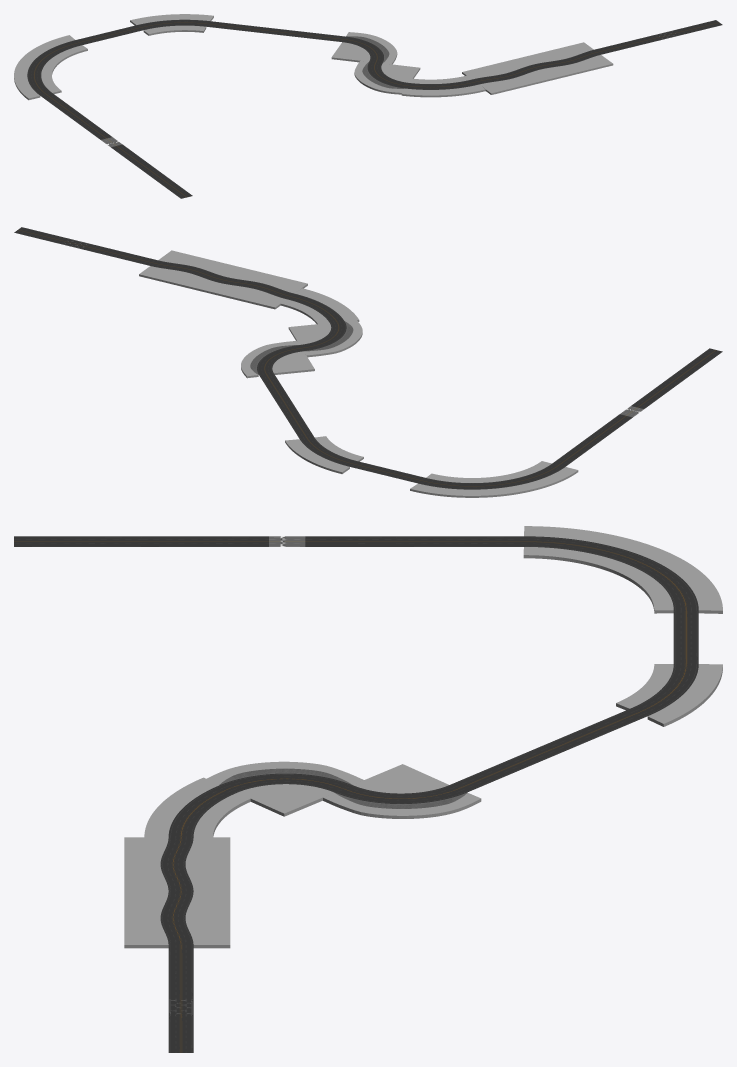
File: level_2.fbx
3 views of the same model, one above another, from view 1: azimuth 30°, elevation 25°; view 2: azimuth 150°, elevation 25°; view 3: azimuth 270°, elevation 25° (orthographic). The views are drawn at different scales.
Parts seen in each view (by area): view 1: bigwave_backsideR3, bigwave_backsideR2, bigwaveRoad2, road_turn_roadsideR1, road_turn1_4, road_turn1_3, road_turn1_2_backsideR1, road_turn_roadsideR, road_turn1_2_backsideR2, road_turn_roadsideR3, road_turn_roadsideR2, road_turn1_2_backsideL1 (+17 smaller); view 2: bigwave_backsideR2, bigwave_backsideR3, bigwaveRoad2, road_turn_roadsideR2, road_turn1_3, road_turn_roadsideR, road_turn1_4, road_turn_roadsideR3, road_turn1_2_backsideR1, road_turn1_2_backsideR2, road_turn_roadsideR1, road_turn1_2_backsideL1 (+15 smaller); view 3: bigwave_backsideR2, bigwave_backsideR3, bigwaveRoad2, road_turn1_3, road_turn1_4, road_turn1_2_backsideR2, road_turn_roadsideR3, road_turn1_2_backsideL2, road_turn1_2_backsideR1, road_turn_roadsideR2, road_turn_roadsideR, road_turn_roadsideR1 (+18 smaller).
Boxes of the visible parts, box(x1,y1,x2,y2) form: bigwave_backsideR3: box(479, 55, 613, 94); bigwave_backsideR2: box(462, 42, 593, 79); bigwaveRoad2: box(472, 50, 600, 84); road_turn_roadsideR1: box(401, 84, 485, 97); road_turn1_4: box(342, 36, 389, 63); road_turn1_3: box(362, 62, 408, 88); road_turn1_2_backsideR1: box(331, 42, 370, 62); road_turn_roadsideR: box(14, 63, 40, 100); road_turn1_2_backsideR2: box(381, 63, 420, 82); road_turn_roadsideR3: box(130, 14, 213, 25); road_turn_roadsideR2: box(18, 35, 74, 64); road_turn1_2_backsideL1: box(354, 61, 405, 94); bigwave_backsideR2: box(139, 266, 286, 309); bigwave_backsideR3: box(158, 250, 307, 293); bigwaveRoad2: box(151, 260, 293, 298); road_turn_roadsideR2: box(410, 483, 503, 497); road_turn1_3: box(300, 321, 353, 351); road_turn_roadsideR: box(500, 467, 578, 495); road_turn1_4: box(250, 345, 303, 374); road_turn_roadsideR3: box(285, 439, 349, 473); road_turn1_2_backsideR1: box(272, 351, 314, 374); road_turn1_2_backsideR2: box(288, 323, 331, 344); road_turn_roadsideR1: box(295, 288, 359, 321); road_turn1_2_backsideL1: box(304, 320, 362, 357); bigwave_backsideR2: box(185, 837, 230, 948); bigwave_backsideR3: box(124, 837, 168, 948); bigwaveRoad2: box(160, 837, 193, 944); road_turn1_3: box(219, 768, 352, 792); road_turn1_4: box(334, 785, 467, 808); road_turn1_2_backsideR2: box(238, 784, 333, 816); road_turn_roadsideR3: box(647, 664, 722, 726); road_turn1_2_backsideL2: box(323, 793, 481, 818); road_turn1_2_backsideR1: box(353, 764, 448, 793); road_turn_roadsideR2: box(648, 551, 722, 613); road_turn_roadsideR: box(524, 526, 664, 557); road_turn_roadsideR1: box(144, 777, 219, 837).
Size of the model in its own units: 98148 by 275 by 55821.
